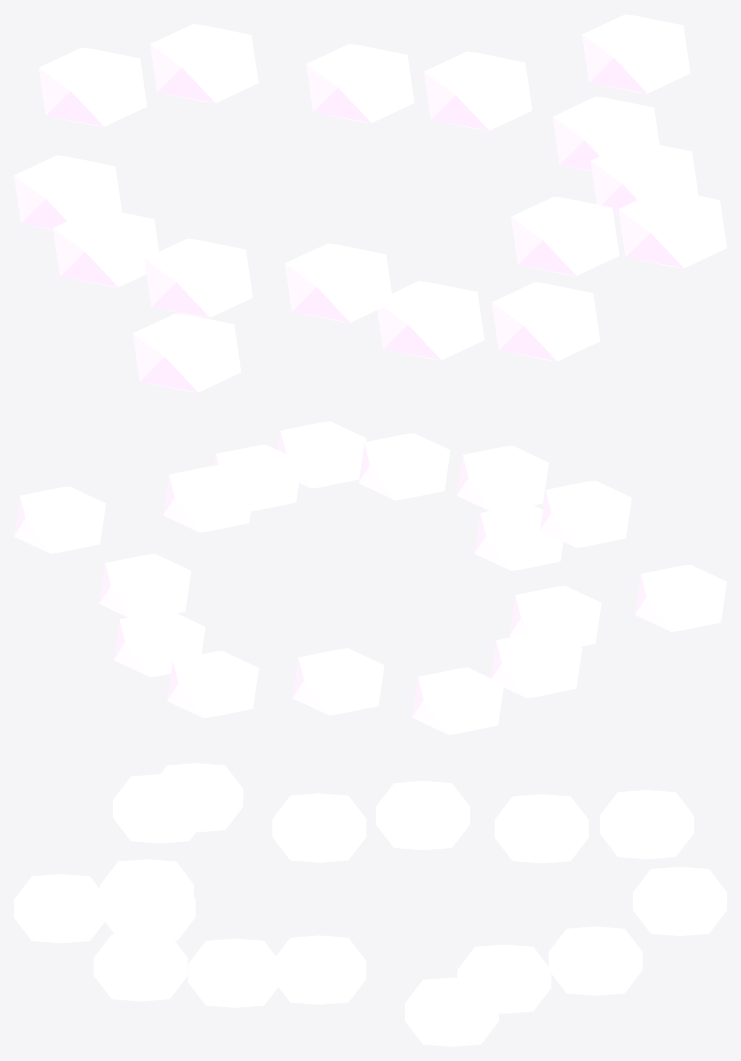
File: stealth.transition.glb
The picture shows the model from 3 angles, top to bottom: view 1: azimuth 30°, elevation 25°; view 2: azimuth 150°, elevation 25°; view 3: azimuth 270°, elevation 25°; orthographic projection. The views are drawn at different scales.
Visible parts, largest first — view 1: stealth.transition.Icosphere.016; view 2: stealth.transition.Icosphere.016; view 3: stealth.transition.Icosphere.016.
Boxes of the visible parts, left/top/right/bottom form: stealth.transition.Icosphere.016: left=14, top=14, right=726, bottom=392; stealth.transition.Icosphere.016: left=14, top=421, right=726, bottom=734; stealth.transition.Icosphere.016: left=14, top=763, right=726, bottom=1046.
Bounding box in the file's own units: 1.69 × 0.3044 × 1.68.
